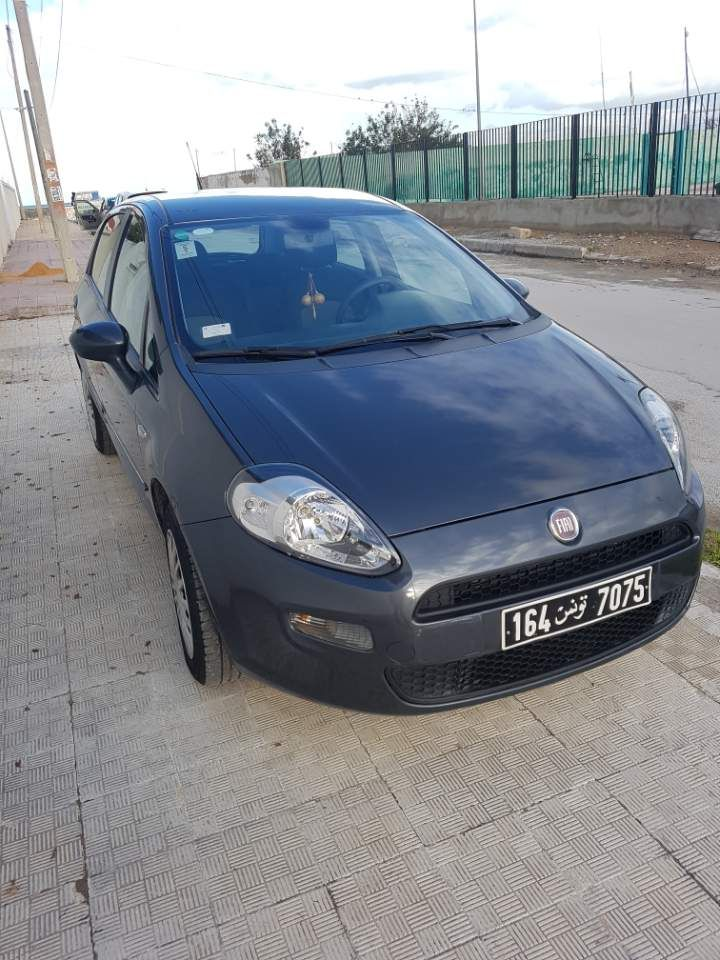LP: (497, 567, 655, 653)
